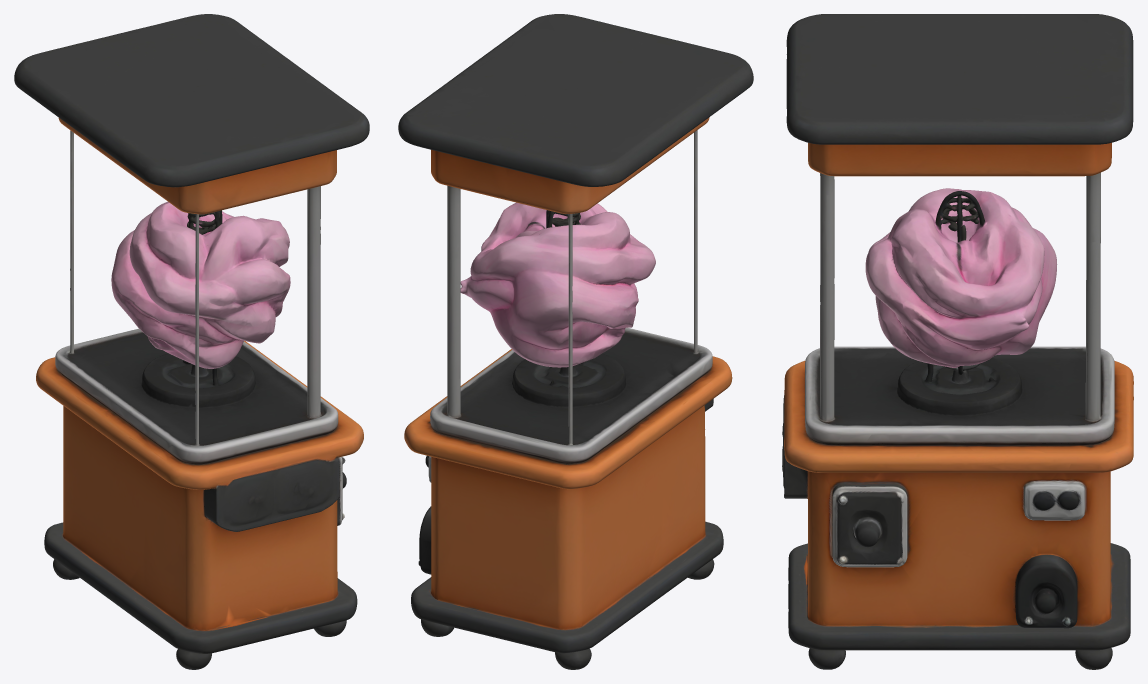
The model's file is building-cotton-candy-stand.glb.
The picture shows the model from 3 angles, left to right: view 1: azimuth 30°, elevation 25°; view 2: azimuth 150°, elevation 25°; view 3: azimuth 270°, elevation 25°; orthographic projection. The views are drawn at different scales.
Visible parts, largest first — view 1: tripo_node_91504a4a-74f6-4637-9ddb-e9e1d6ad0037; view 2: tripo_node_91504a4a-74f6-4637-9ddb-e9e1d6ad0037; view 3: tripo_node_91504a4a-74f6-4637-9ddb-e9e1d6ad0037.
Boxes of the visible parts, box(x1,y1,x2,y2) form: tripo_node_91504a4a-74f6-4637-9ddb-e9e1d6ad0037: box(14, 14, 369, 669); tripo_node_91504a4a-74f6-4637-9ddb-e9e1d6ad0037: box(398, 14, 753, 669); tripo_node_91504a4a-74f6-4637-9ddb-e9e1d6ad0037: box(782, 14, 1133, 669).
Size of the model in its own units: 1.13 by 2.5 by 1.43.
Materials: 1 (1 with a texture image).
